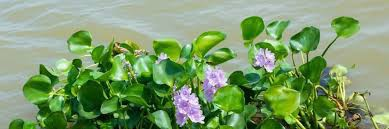water_hyacinth: (10, 16, 376, 129)
